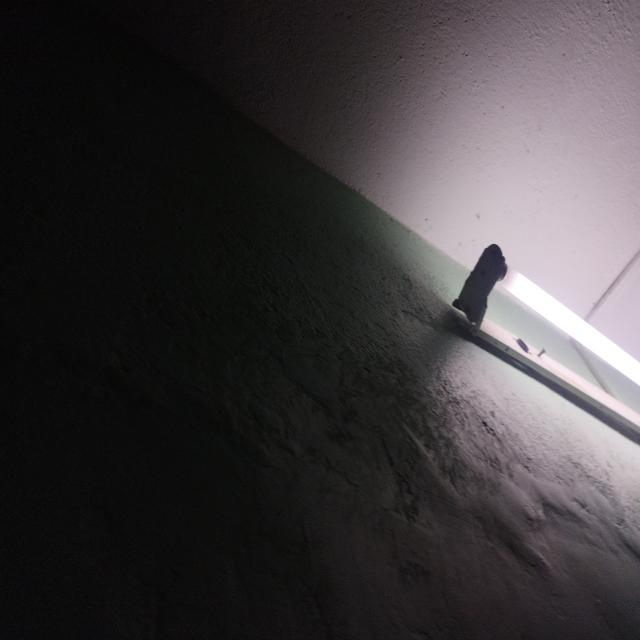tubelight_on: (440, 238, 640, 439)
